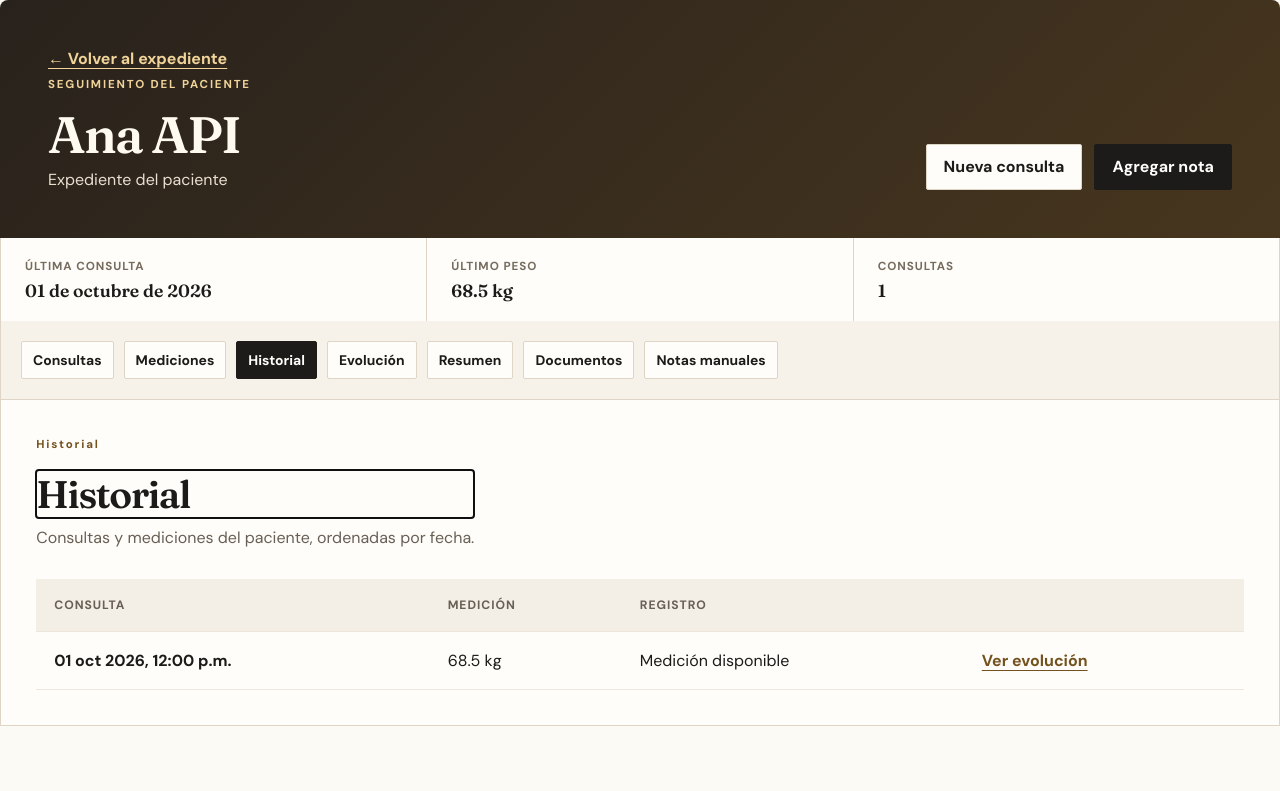
seguimiento conectado a API › presenta historial, resumen y evolución con etiquetas legibles
Expected: the text "68.5 kg" is shown, [451,280,513,301]
Click the button "Resumen": (470, 360) [427,341,513,379]
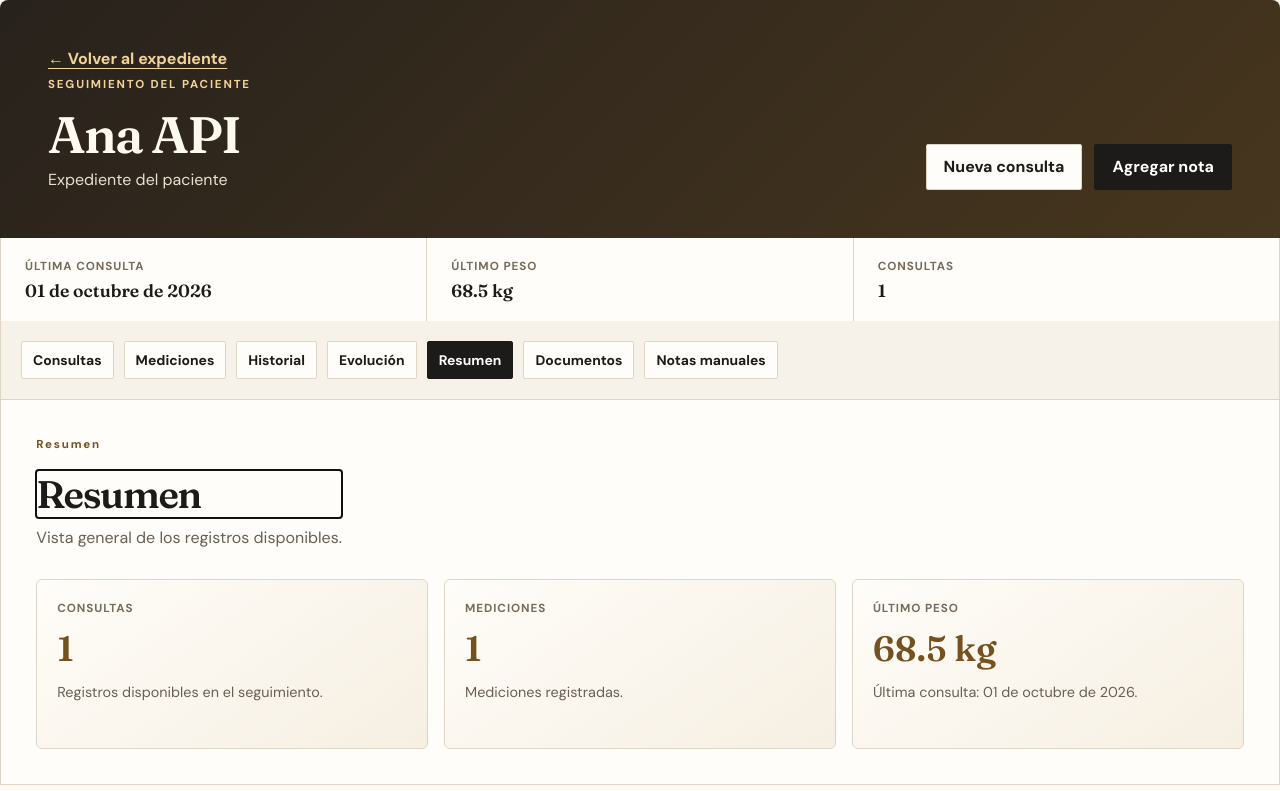
Click the button "Evolución": (372, 360) [327,341,417,379]
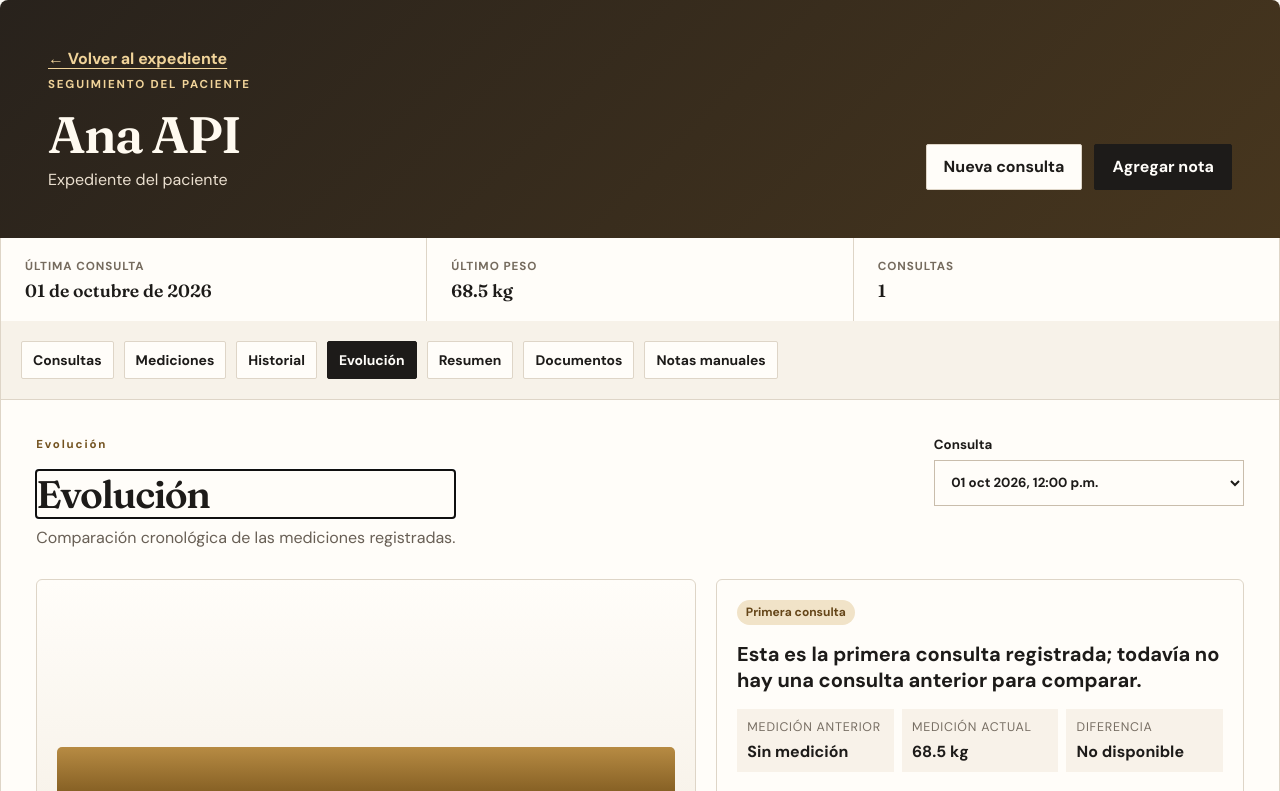
Expected: the heading "Esta es la primera consulta registrada; todavía no hay una consulta anterior para comparar." is shown, [737,641,1219,693]
